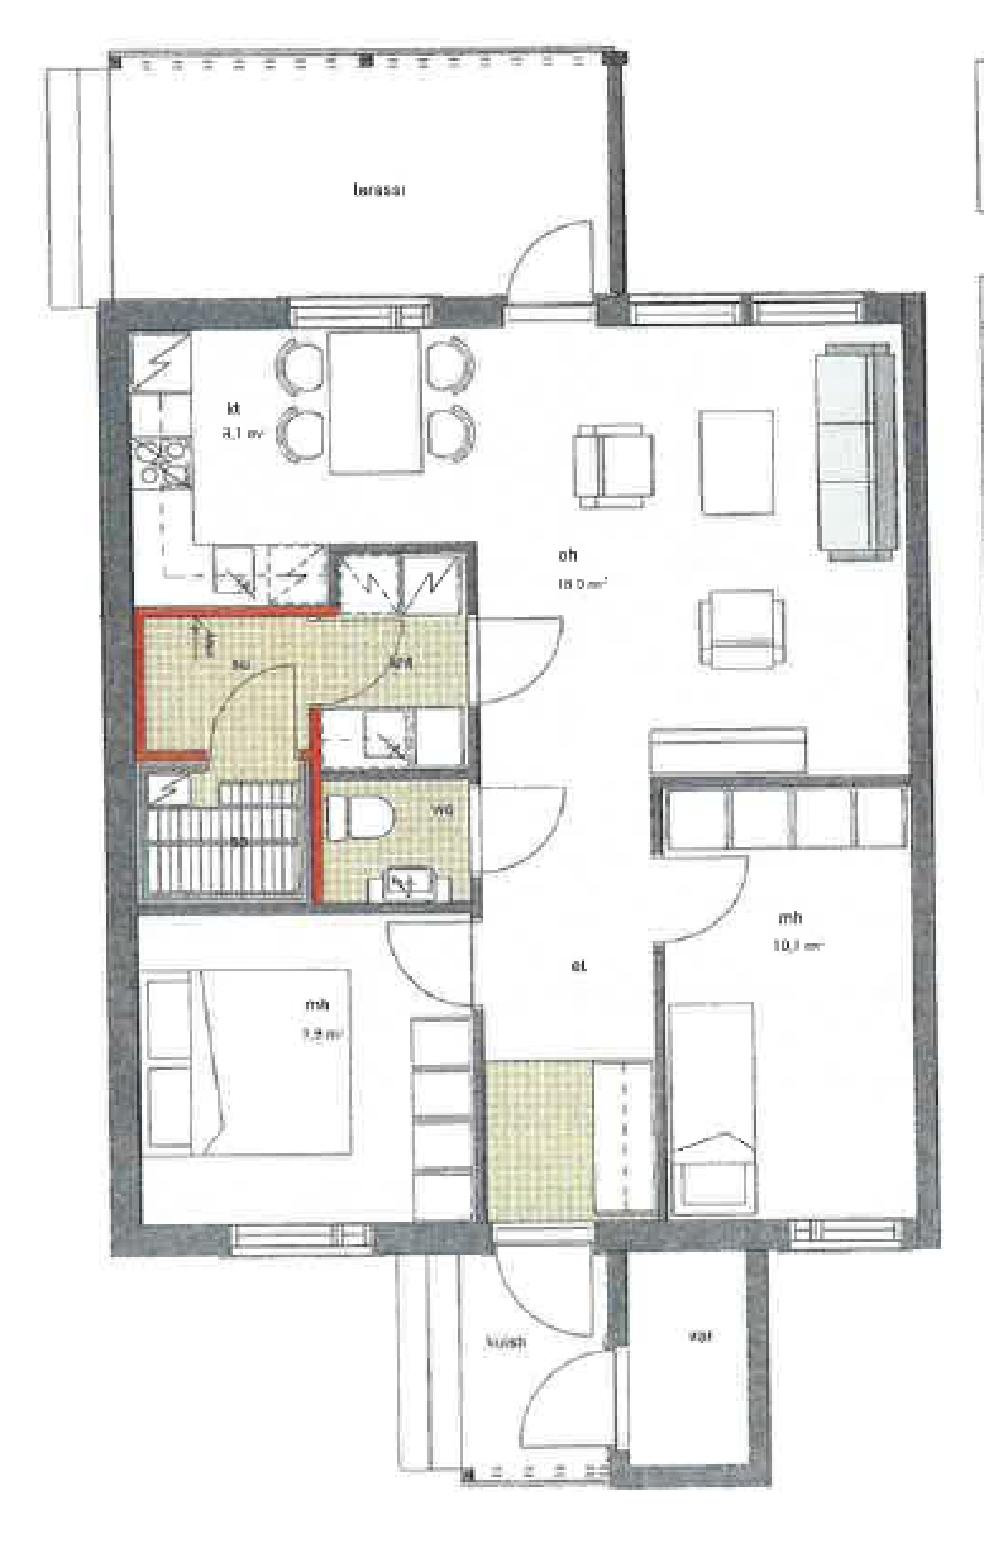door: (491, 1222, 602, 1354), (499, 220, 606, 331), (510, 1354, 628, 1451), (647, 860, 756, 952), (377, 918, 481, 1014), (467, 780, 567, 878), (467, 610, 564, 707)
window: (273, 297, 431, 336), (225, 1226, 380, 1256), (751, 299, 859, 328), (786, 1222, 901, 1247), (631, 299, 739, 321)
zone: (125, 331, 909, 783), (110, 55, 617, 297), (659, 778, 917, 1222), (132, 917, 477, 1226), (144, 614, 468, 906), (474, 781, 665, 1217), (401, 1254, 618, 1491), (621, 1260, 751, 1464), (317, 776, 467, 901)
